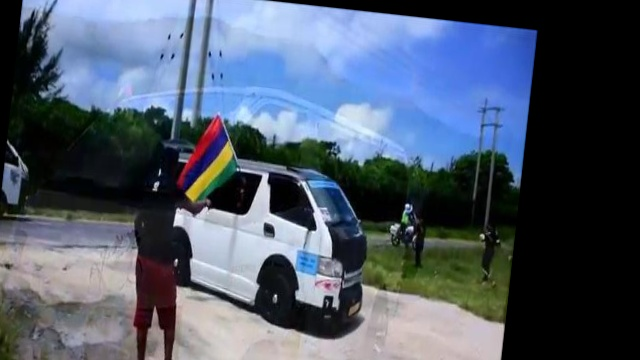van: (136, 139, 385, 341)
